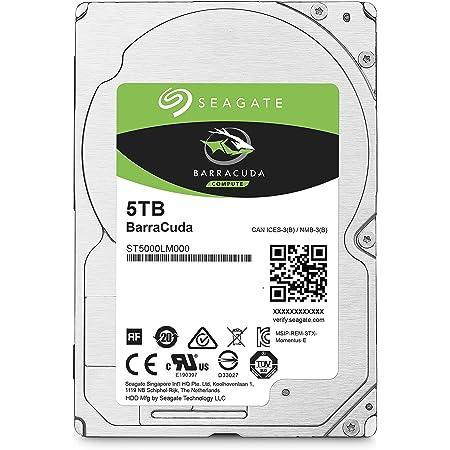internal HDD: (71, 0, 379, 444)
